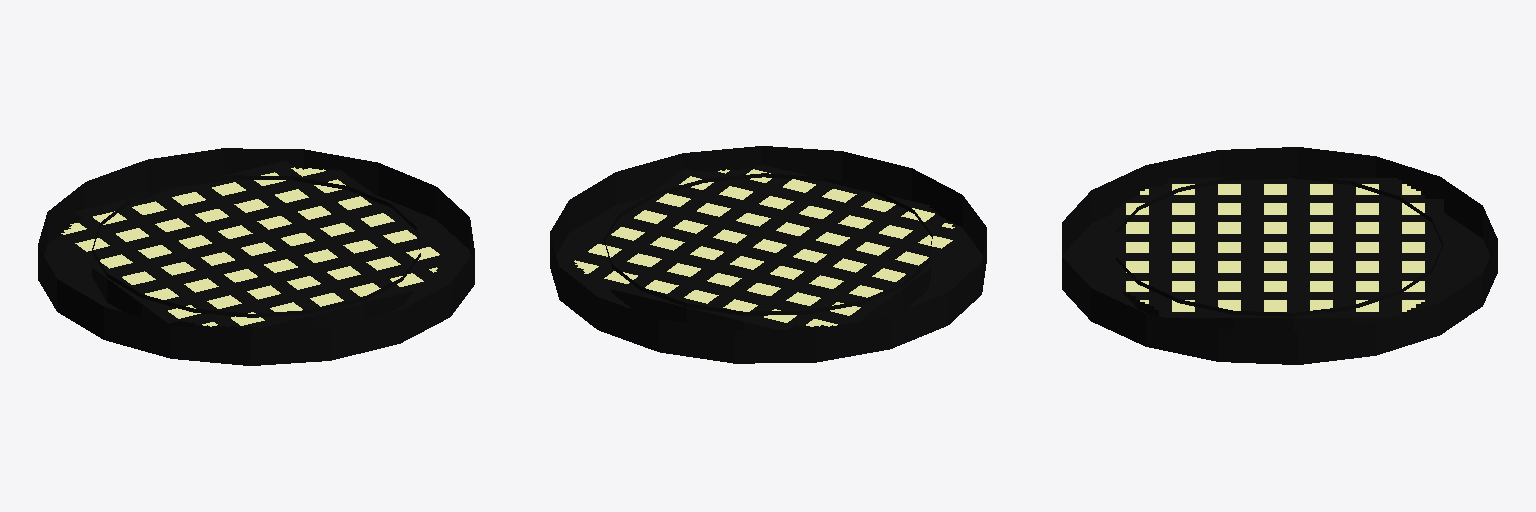
3 renders of one model, left to right at view 1: azimuth 30°, elevation 25°; view 2: azimuth 150°, elevation 25°; view 3: azimuth 270°, elevation 25°, orthographic.
Parts seen in each view (by area): view 1: plane, cylinder; view 2: plane, cylinder; view 3: plane, cylinder.
Boxes of the visible parts, x1=… form: plane: x1=54, y1=161, x2=458, y2=327; cylinder: x1=38, y1=148, x2=474, y2=365; plane: x1=566, y1=165, x2=966, y2=329; cylinder: x1=550, y1=146, x2=986, y2=363; plane: x1=1113, y1=178, x2=1443, y2=317; cylinder: x1=1062, y1=147, x2=1497, y2=364.
Bounding box in the file's own units: 5.95 × 0.5 × 5.93.
Materials: 1 (1 with a texture image).